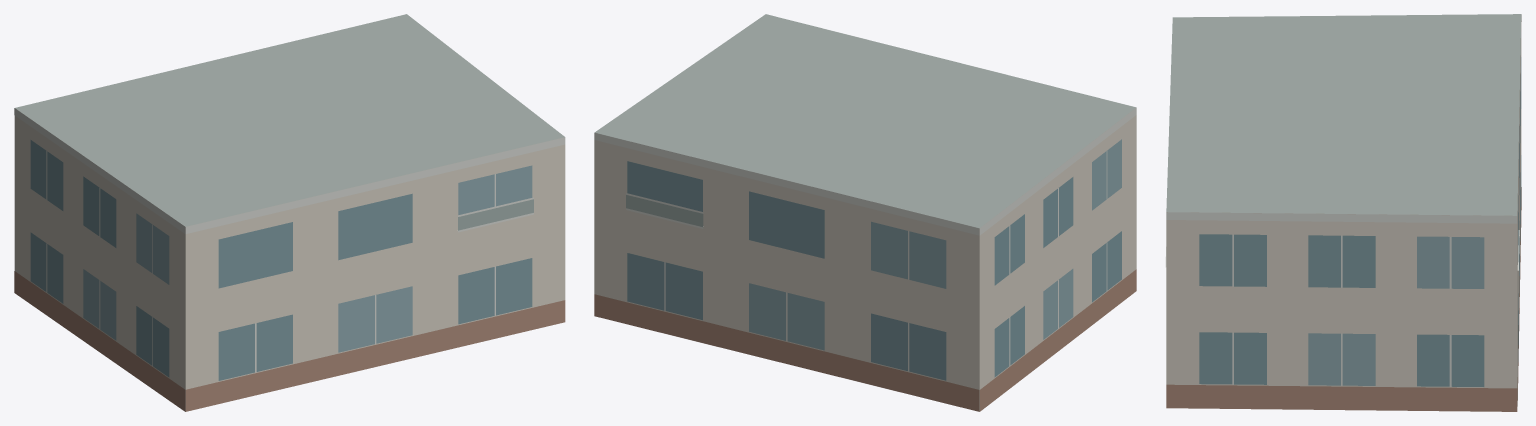
Rendered from survey-upis-32765606.glb.
The picture shows the model from 3 angles, left to right: view 1: azimuth 30°, elevation 25°; view 2: azimuth 150°, elevation 25°; view 3: azimuth 270°, elevation 25°; orthographic projection. The views are drawn at different scales.
Visible parts, largest first — view 1: survey-upis-32765606.tmp; view 2: survey-upis-32765606.tmp; view 3: survey-upis-32765606.tmp.
Boxes of the visible parts, x1,y1,x2,y2 form: survey-upis-32765606.tmp: (14, 14, 565, 411); survey-upis-32765606.tmp: (594, 14, 1136, 411); survey-upis-32765606.tmp: (1165, 14, 1521, 411).
Size of the model in its own units: 13.48 by 6.1 by 10.04.
